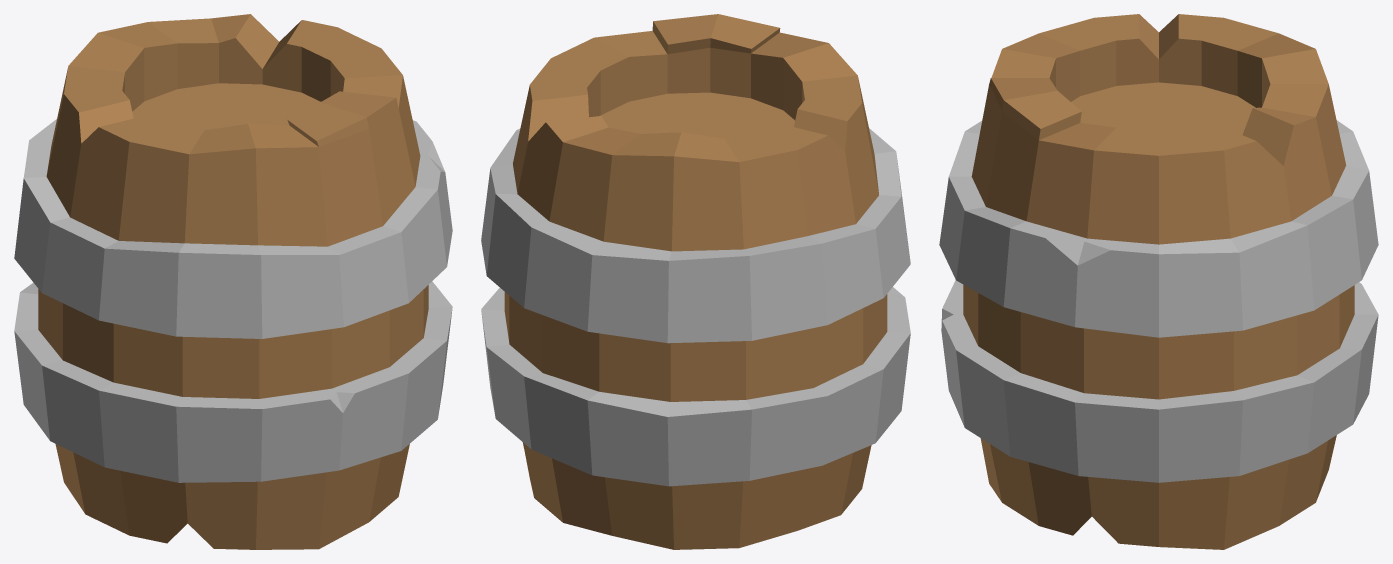
Rendered from barrel.glb.
3 views of the same model, side by side, from view 1: azimuth 30°, elevation 25°; view 2: azimuth 150°, elevation 25°; view 3: azimuth 270°, elevation 25° (orthographic). The views are drawn at different scales.
Parts seen in each view (by area): view 1: Cylinder; view 2: Cylinder; view 3: Cylinder.
Part boxes in pixels (x1=…): Cylinder: x1=14, y1=14, x2=452, y2=549; Cylinder: x1=481, y1=14, x2=910, y2=549; Cylinder: x1=939, y1=14, x2=1378, y2=549.
Bounding box in the file's own units: 2.59 × 2.67 × 2.59.
